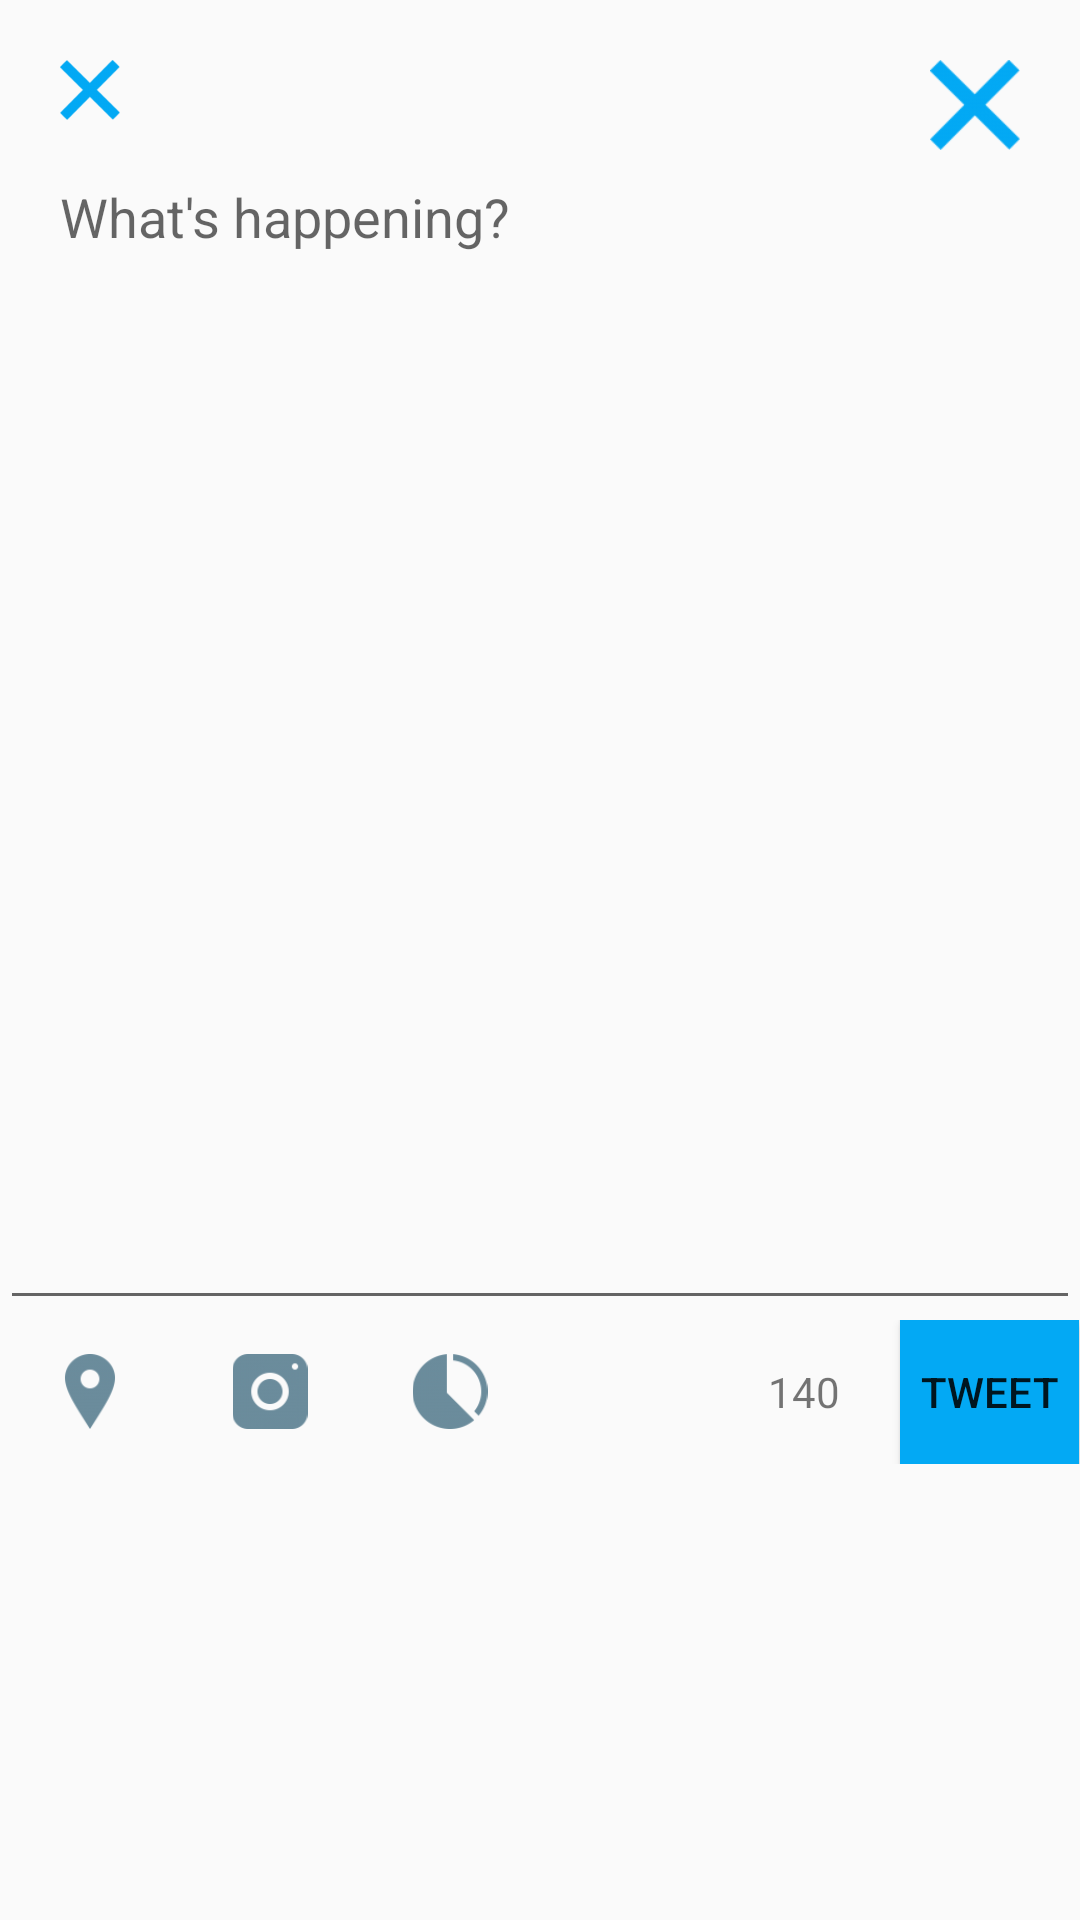

Screen size 1080w x 1920h. Icon name, then its center in pixels as (x,y):
cancel: (90,90), (975,105)
iconcamera: (270,1391)
iconlocation: (90,1391)
iconpie: (450,1391)
